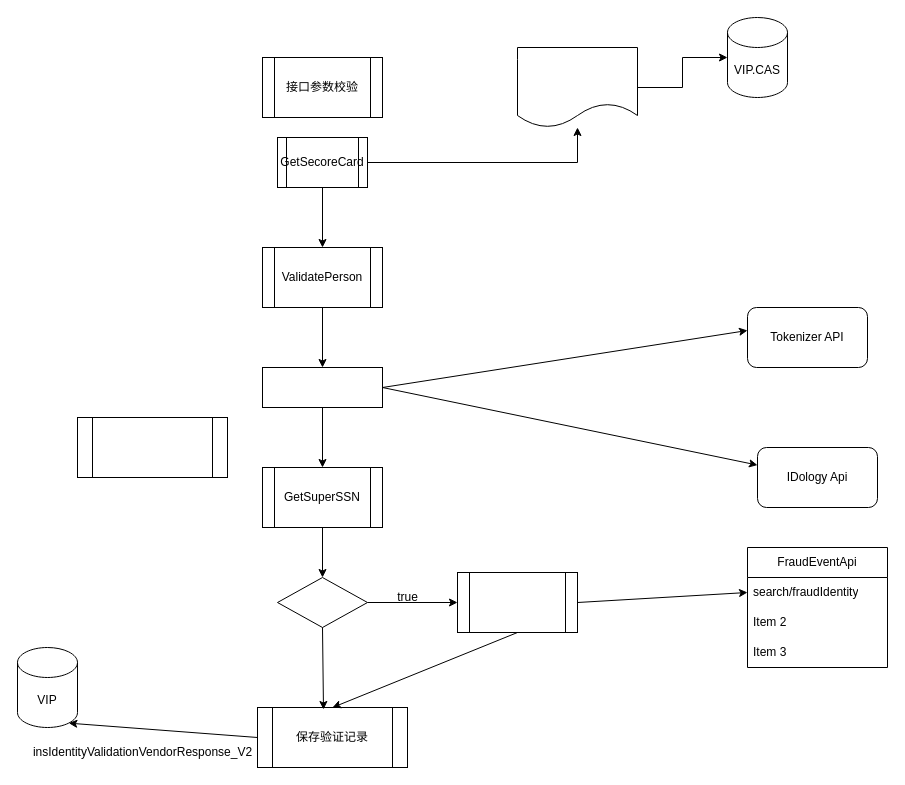
Some shapes in this 905 by 785 pixel diagram are drawn without their labels. Each missing label, with the centre of its shape:
CIP: [322,387]
ProcessNegMatch: [517,602]
xml: [577,87]
保存验证请求记录（IdentityValidationRequest）: [152,447]
配置["NegMatchEnable"]&& 非OFAC: [322,602]
